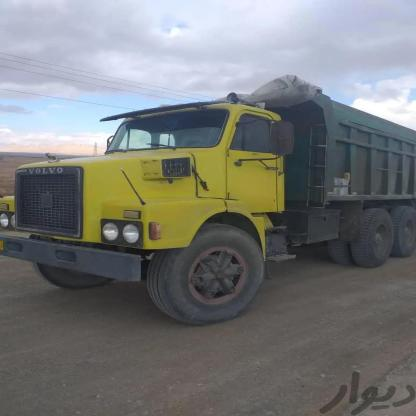Truck: (0, 68, 416, 324)
